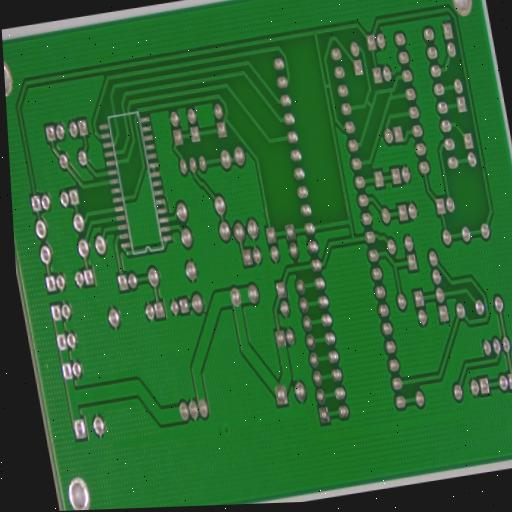short_circuit: (361, 91, 378, 119), (383, 85, 398, 108), (320, 75, 336, 96)
